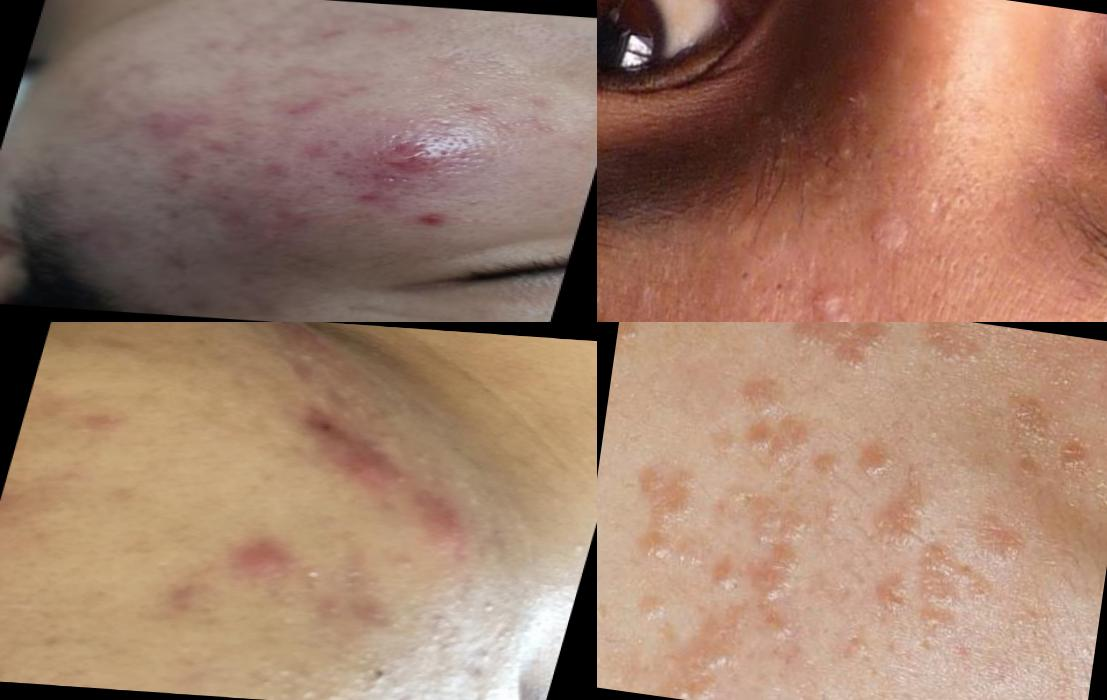acne_scars: (271, 401, 423, 491), (402, 490, 485, 546), (343, 169, 438, 189)
blackhead: (714, 247, 761, 304), (762, 254, 799, 306)
cystic: (331, 114, 513, 179)
flat_wart: (703, 481, 818, 613), (885, 521, 1000, 646), (618, 454, 719, 580), (722, 370, 823, 479), (646, 608, 758, 700), (749, 323, 899, 380), (845, 559, 926, 655), (862, 474, 935, 561), (838, 434, 910, 500), (965, 507, 1035, 574), (900, 323, 990, 374), (795, 275, 884, 323), (854, 206, 926, 263), (997, 387, 1058, 447), (800, 443, 853, 495), (1020, 682, 1090, 700), (615, 323, 651, 355)
papular: (209, 537, 315, 585), (401, 208, 454, 240)
whitehead: (239, 657, 332, 685), (831, 123, 870, 180), (781, 32, 816, 94), (739, 108, 792, 140), (383, 547, 431, 580), (455, 187, 511, 212), (463, 597, 516, 622), (458, 645, 506, 672), (557, 533, 592, 562), (299, 561, 329, 583), (340, 563, 373, 582)
